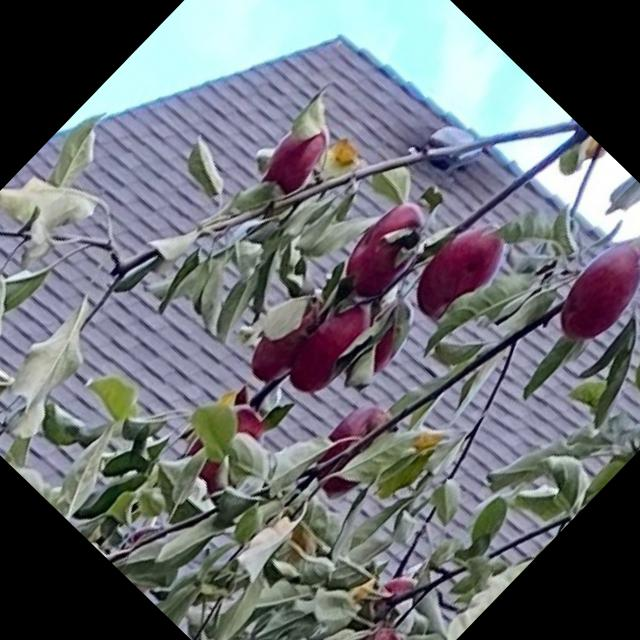Apples: (404, 212, 519, 328), (278, 290, 388, 401), (336, 194, 442, 300), (304, 394, 409, 500), (548, 234, 639, 349), (177, 397, 276, 497), (242, 294, 337, 392), (256, 114, 341, 199), (348, 302, 424, 379), (361, 570, 424, 634), (326, 619, 415, 639)
